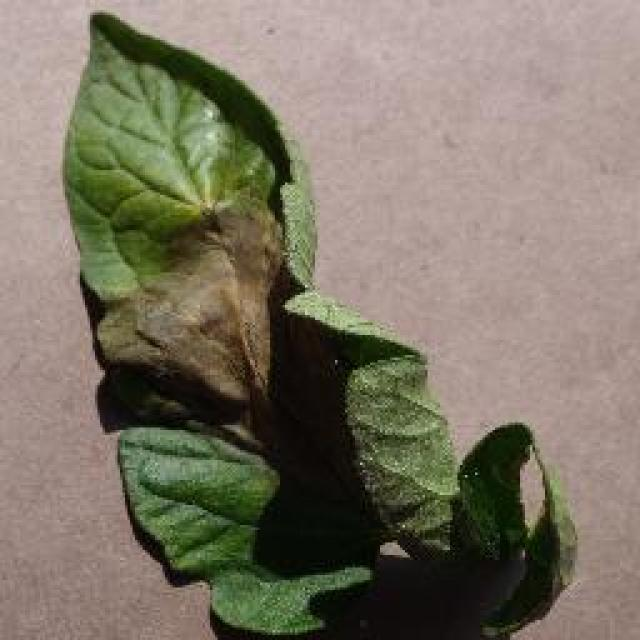Tomato___Late_blight: (62, 12, 572, 638)
